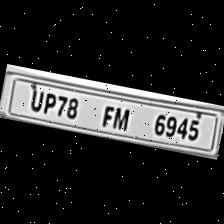4: (174, 115, 190, 140)
5: (186, 118, 202, 142)
6: (148, 110, 168, 136)
7: (50, 90, 70, 118)
8: (62, 95, 82, 120)
9: (163, 111, 180, 140)
F: (100, 101, 118, 128)
M: (108, 102, 132, 132)
P: (38, 86, 60, 116)
U: (23, 84, 45, 114)
